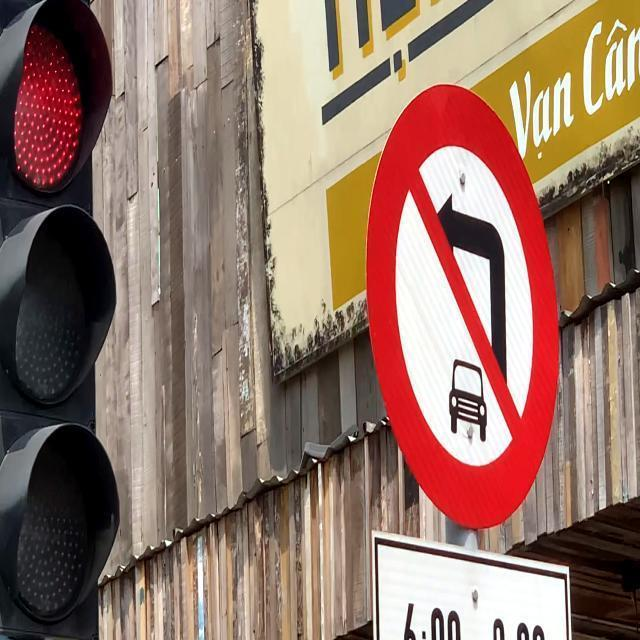123a-cam-re-trai: (367, 77, 558, 529)
